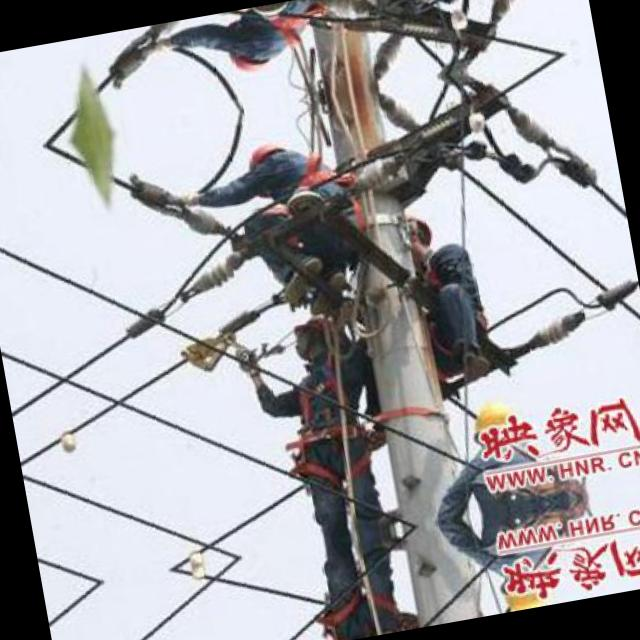helmet: (287, 309, 347, 367), (243, 133, 294, 176), (227, 39, 278, 82)
